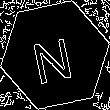N_N: (31, 26, 79, 84)
